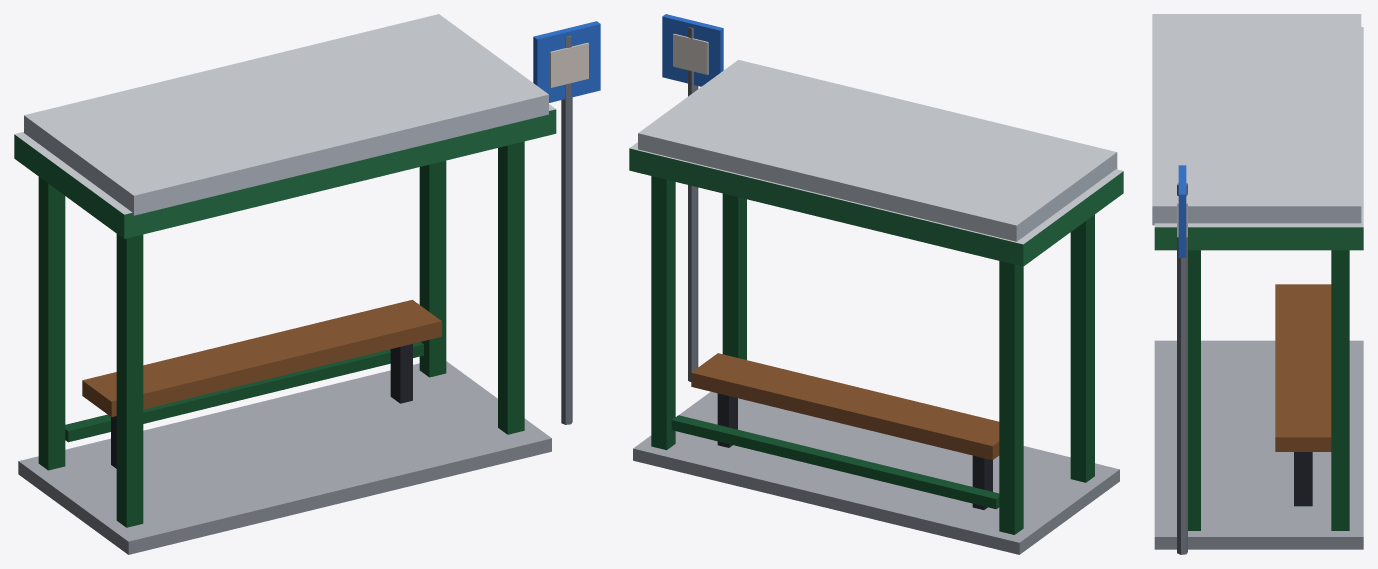
File: BusStop_Shelter.glb
3 views of the same model, side by side, from view 1: azimuth 30°, elevation 25°; view 2: azimuth 150°, elevation 25°; view 3: azimuth 270°, elevation 25° (orthographic). The views are drawn at different scales.
Parts seen in each view (by area): view 1: BusStop_Shelter; view 2: BusStop_Shelter; view 3: BusStop_Shelter.
Boxes of the visible parts, bbox=[...] form: BusStop_Shelter: bbox=[14, 14, 600, 554]; BusStop_Shelter: bbox=[629, 14, 1123, 554]; BusStop_Shelter: bbox=[1152, 14, 1363, 554].
Size of the model in its own units: 11.55 by 9.1 by 4.55.
